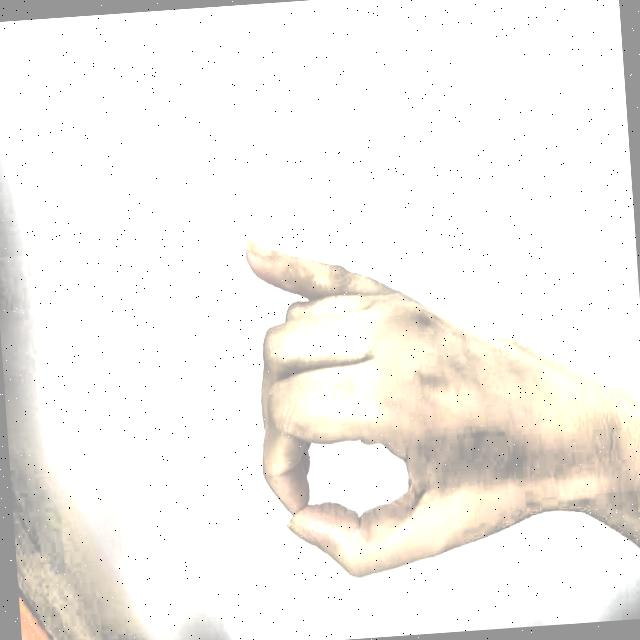Ou: (218, 172, 586, 600)
